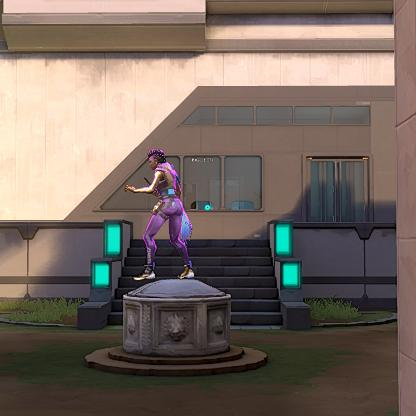enemyBody: (160, 171, 183, 216)
enemyHead: (147, 147, 170, 174)
